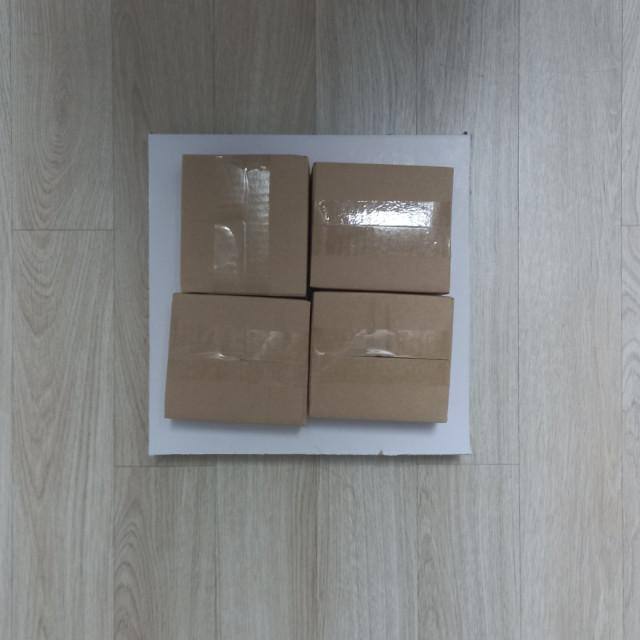box: (163, 292, 309, 432), (177, 151, 310, 301), (309, 158, 455, 294), (309, 290, 455, 426)
